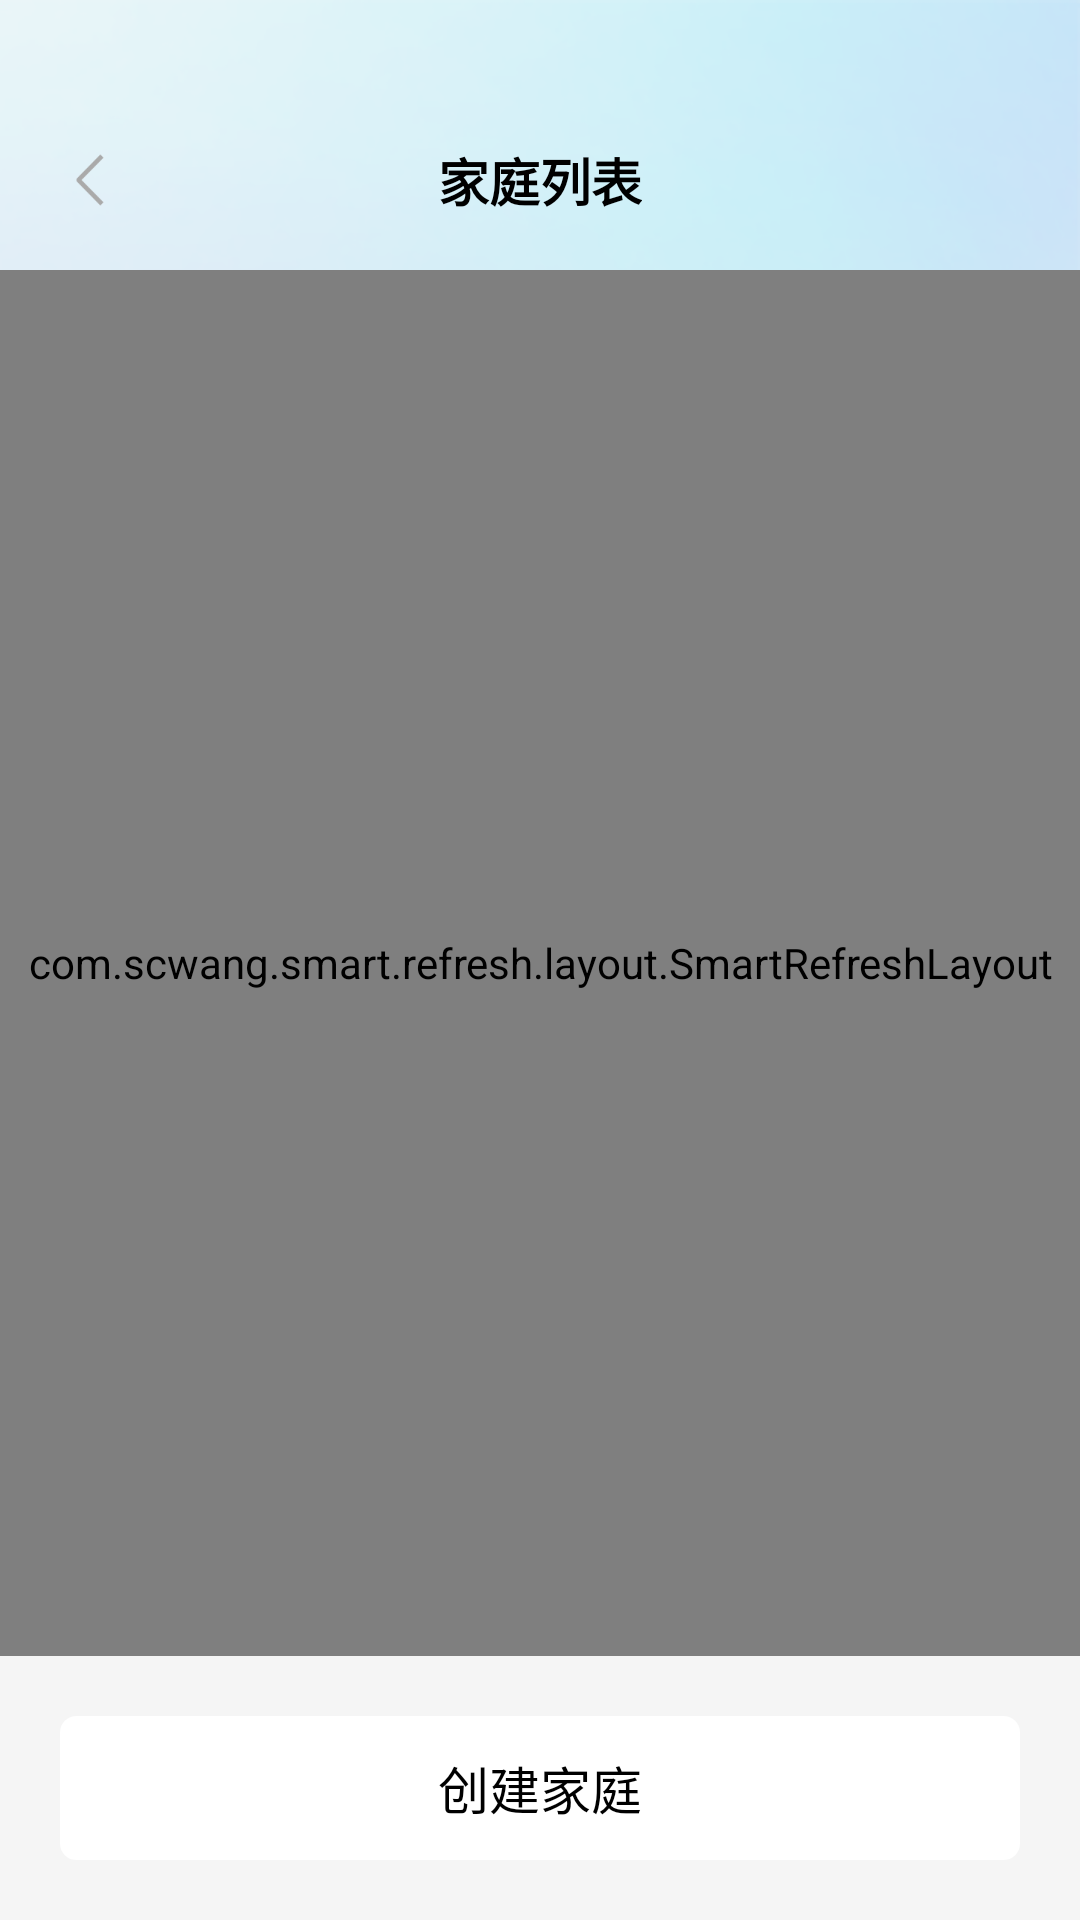

Screen size 1080x1920. Icon name, then its center in pixels as [x,y]:
back: [89,180]
